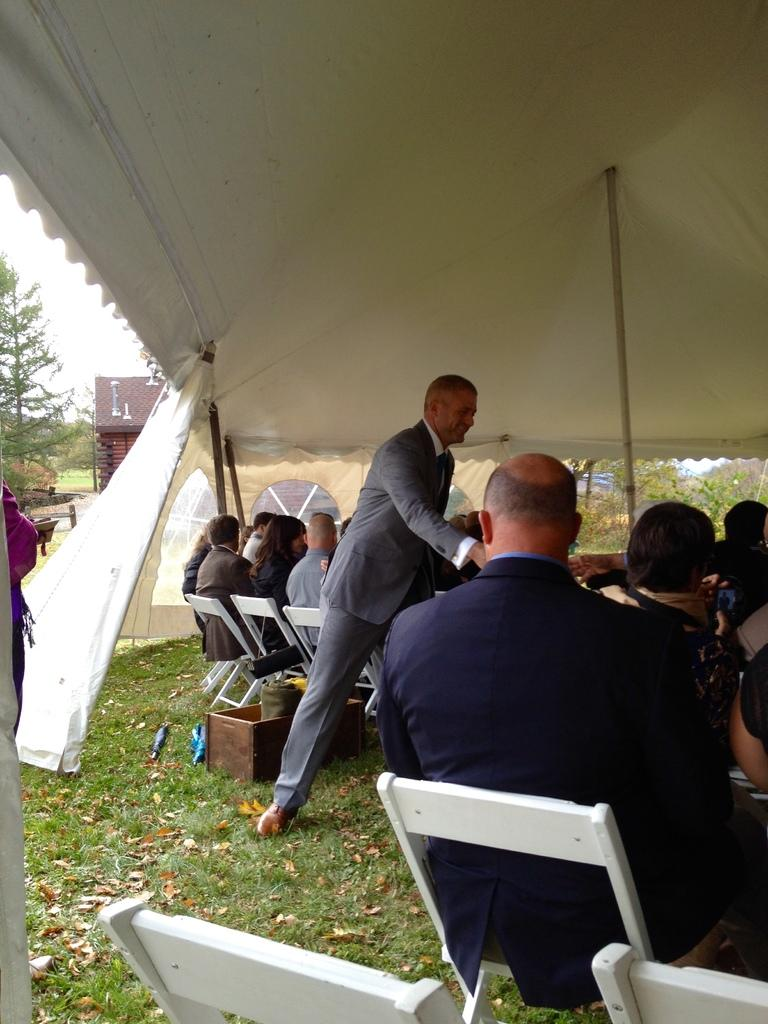Chair: (96, 897, 466, 1023)
